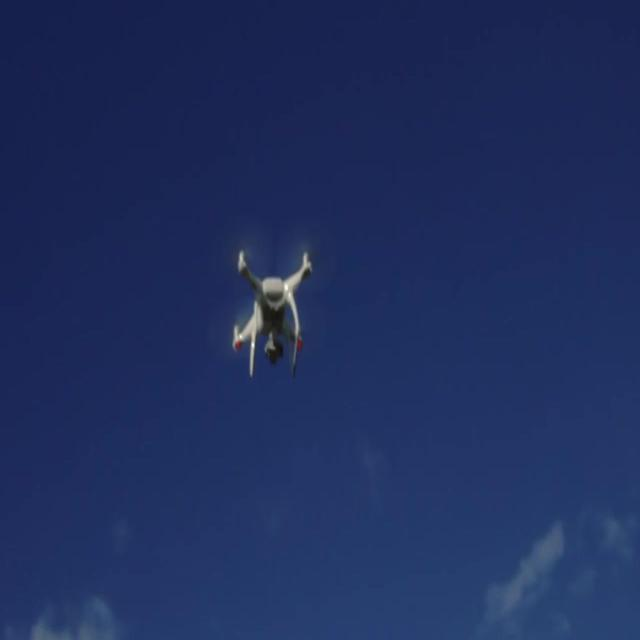drone: (228, 244, 314, 380)
